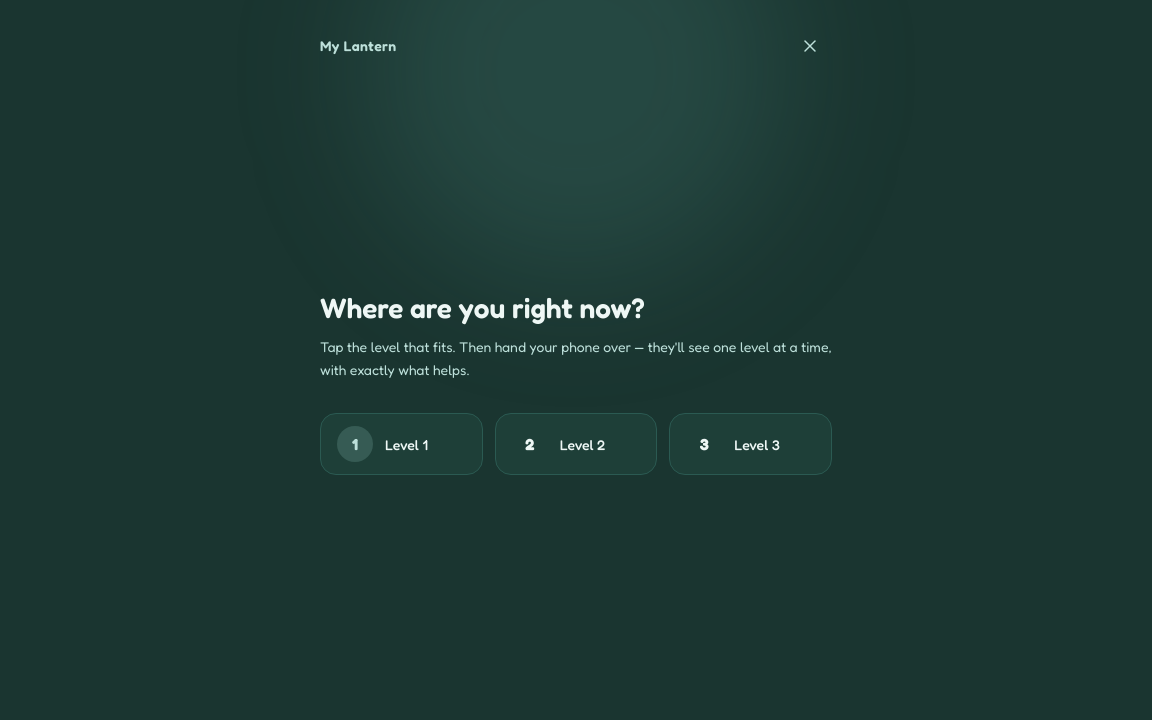
Test: PresentMode › navigates levels with arrow keys
The image size is (1152, 720).
Click the button "1 Level 1". click: x=401, y=444
box: [320, 413, 483, 475]
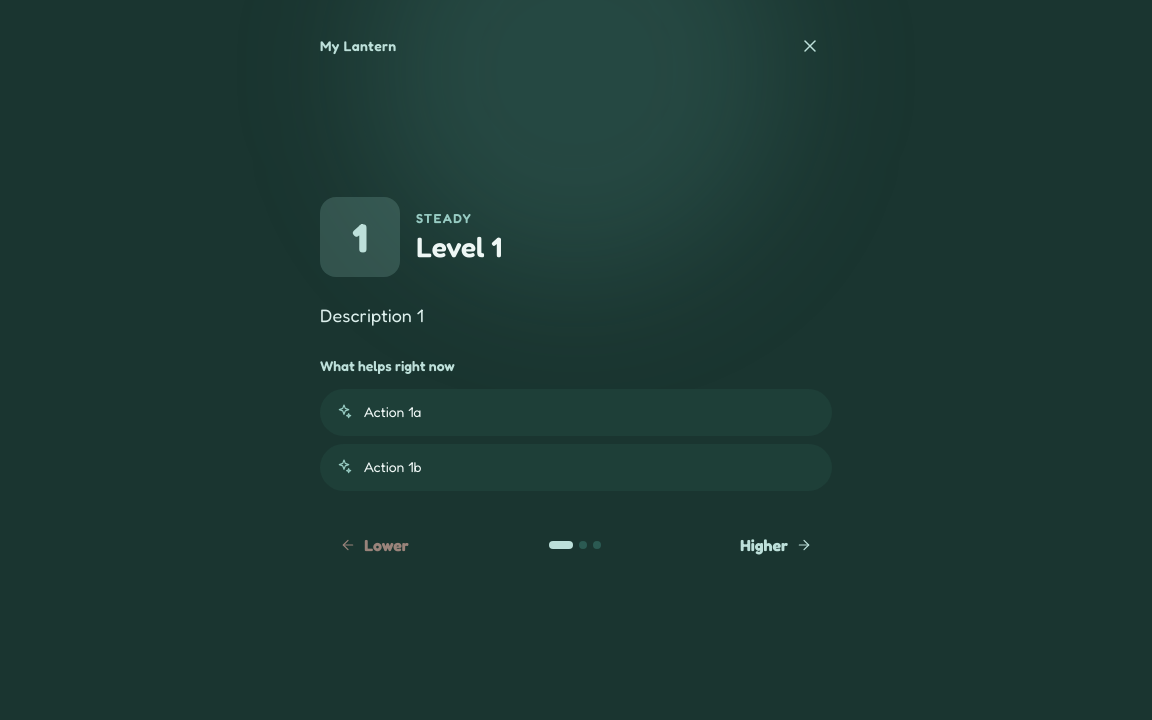
Check: the text "Description 1" is shown, box [320, 304, 424, 326]
Press ArrowRight
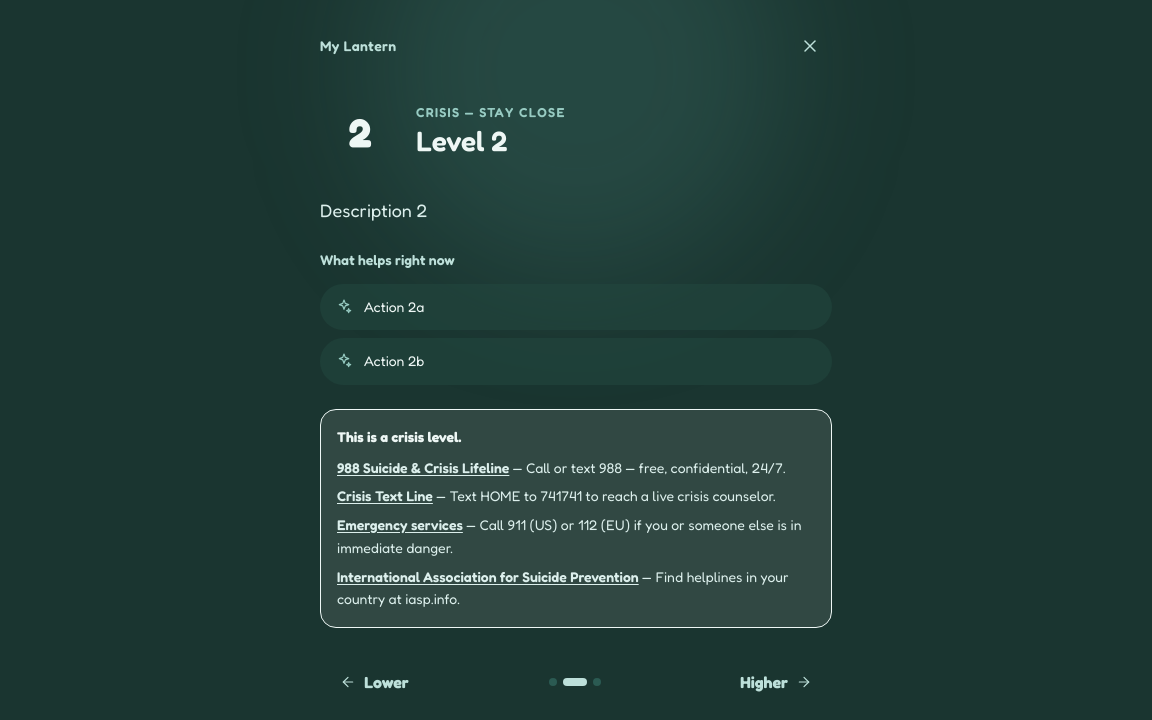
Check: the text "Description 2" is shown, box [320, 199, 427, 221]
Press ArrowLeft
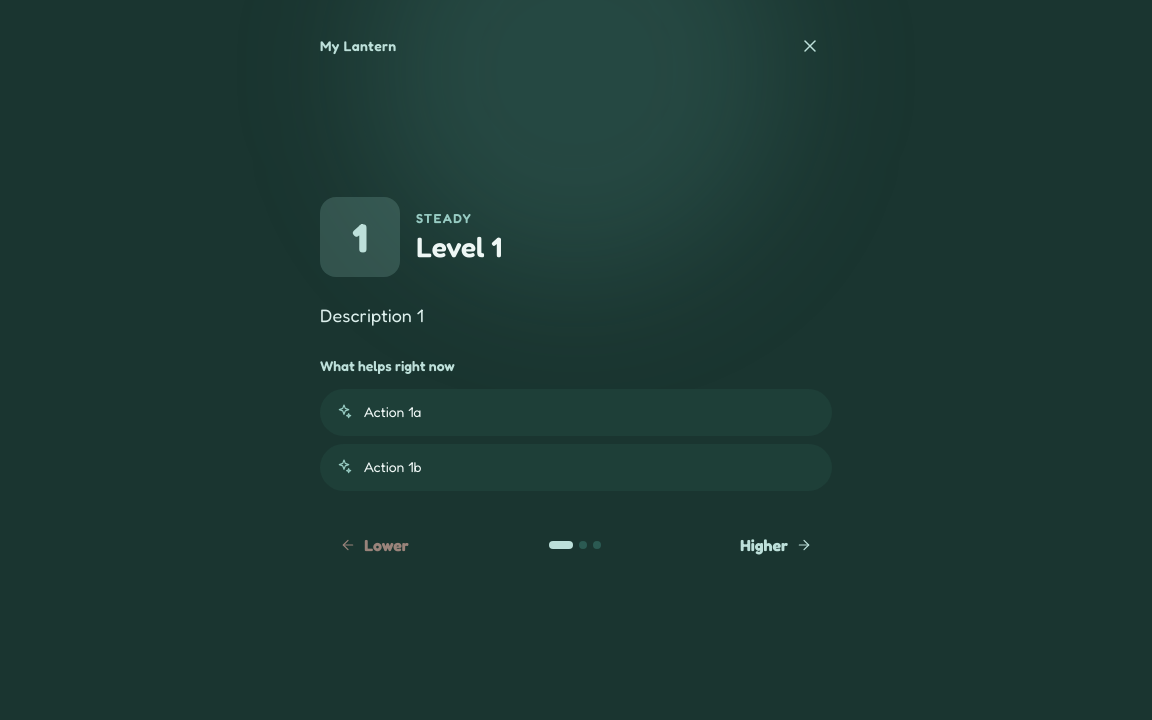
Check: the text "Description 1" is shown, box [320, 304, 424, 326]
